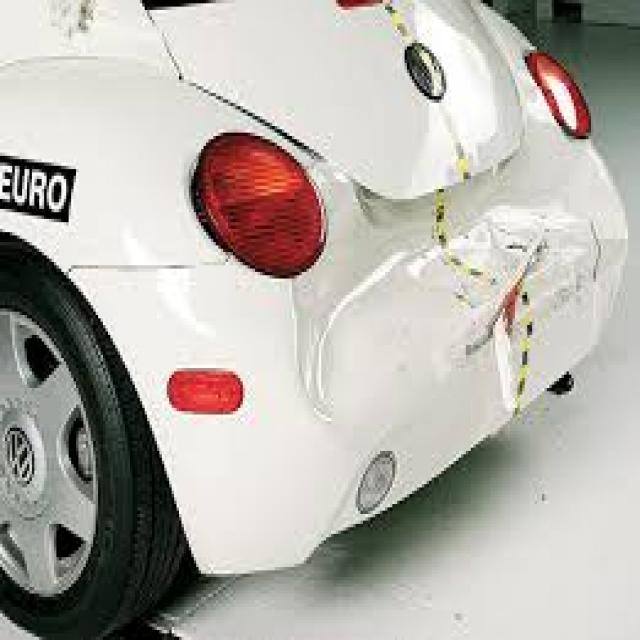minor: (352, 157, 599, 396)
